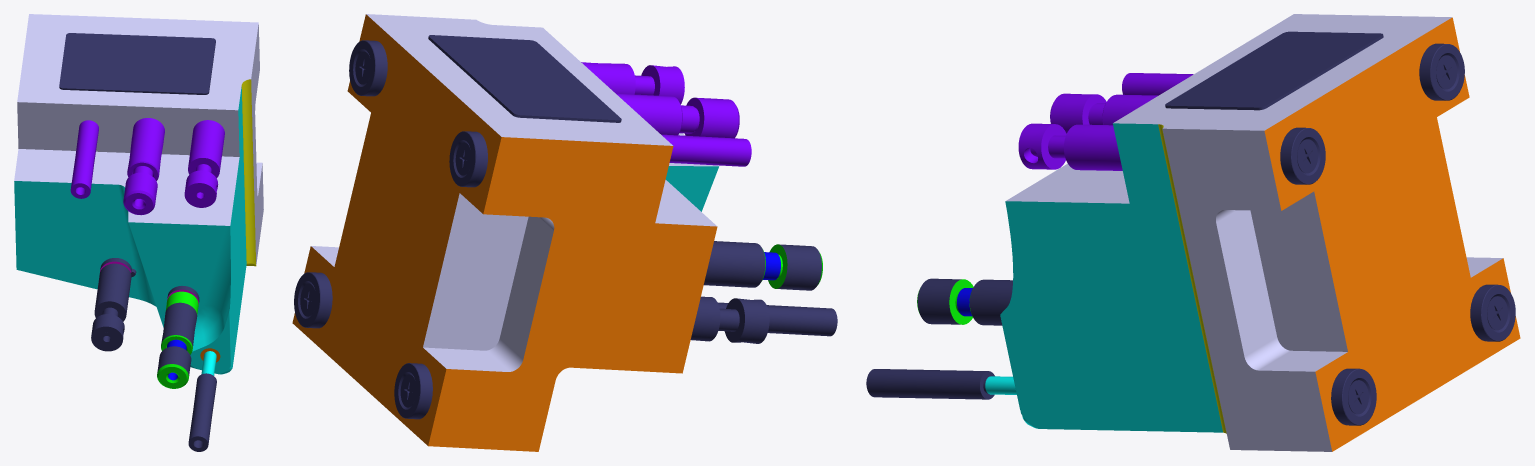
The model's file is ZZ145923_5538H-V2021_K00_260415_KEN.obj.
The picture shows the model from 3 angles, left to right: view 1: azimuth 30°, elevation 25°; view 2: azimuth 150°, elevation 25°; view 3: azimuth 270°, elevation 25°; orthographic projection. The views are drawn at different scales.
Parts seen in each view (by area): view 1: Shell_000, Shell_032, Shell_009, Shell_005, Shell_027, Shell_001, Shell_023, Shell_031, Shell_029, Shell_007, Shell_024, Shell_002 (+2 smaller); view 2: Shell_000, Shell_032, Shell_005, Shell_007, Shell_031, Shell_029, Shell_009, Shell_027, Shell_002, Shell_013, Shell_016, Shell_014 (+4 smaller); view 3: Shell_000, Shell_032, Shell_009, Shell_023, Shell_007, Shell_013, Shell_015, Shell_016, Shell_014, Shell_029, Shell_005, Shell_024 (+2 smaller).
Part boxes in pixels (bbox=[...]): Shell_000: bbox=[14, 14, 263, 374]; Shell_032: bbox=[59, 33, 215, 94]; Shell_009: bbox=[188, 351, 216, 451]; Shell_005: bbox=[161, 291, 198, 354]; Shell_027: bbox=[127, 118, 164, 180]; Shell_001: bbox=[94, 263, 131, 321]; Shell_023: bbox=[188, 120, 224, 178]; Shell_031: bbox=[70, 120, 98, 198]; Shell_029: bbox=[123, 166, 157, 215]; Shell_007: bbox=[157, 339, 191, 388]; Shell_024: bbox=[184, 170, 218, 207]; Shell_002: bbox=[91, 314, 124, 351]; Shell_000: bbox=[292, 14, 719, 451]; Shell_032: bbox=[428, 35, 621, 122]; Shell_005: bbox=[703, 241, 765, 287]; Shell_007: bbox=[763, 244, 822, 290]; Shell_031: bbox=[661, 134, 751, 166]; Shell_029: bbox=[679, 97, 739, 138]; Shell_009: bbox=[717, 302, 837, 336]; Shell_027: bbox=[616, 93, 682, 135]; Shell_002: bbox=[725, 298, 769, 343]; Shell_013: bbox=[449, 131, 487, 187]; Shell_016: bbox=[294, 272, 332, 328]; Shell_014: bbox=[394, 363, 432, 419]; Shell_000: bbox=[1000, 14, 1520, 451]; Shell_032: bbox=[1165, 31, 1383, 110]; Shell_009: bbox=[866, 369, 1016, 399]; Shell_023: bbox=[1064, 124, 1122, 170]; Shell_007: bbox=[917, 278, 973, 324]; Shell_013: bbox=[1419, 43, 1464, 100]; Shell_015: bbox=[1280, 127, 1325, 184]; Shell_016: bbox=[1331, 368, 1376, 425]; Shell_014: bbox=[1470, 284, 1515, 341]; Shell_029: bbox=[1050, 93, 1106, 133]; Shell_005: bbox=[969, 279, 1012, 325]; Shell_024: bbox=[1018, 123, 1066, 169].
Bounding box in the file's own units: 160 × 155 × 229.
